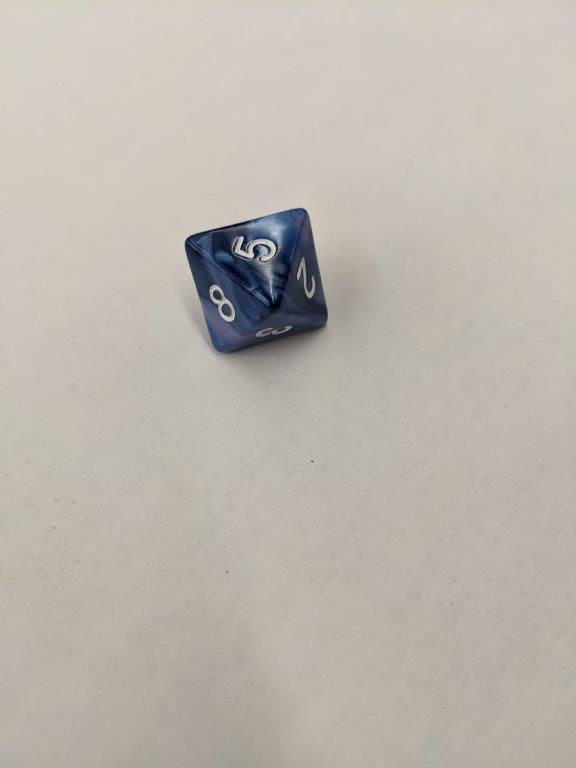d8-5: (183, 208, 328, 352)
